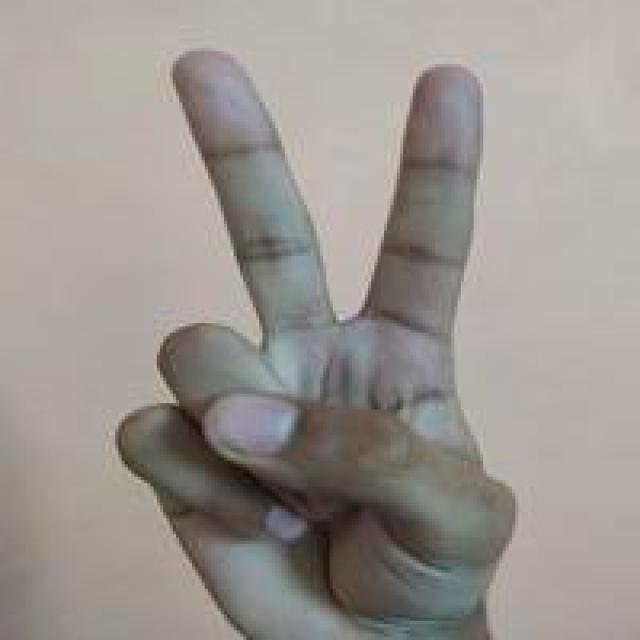V: (106, 45, 524, 640)
